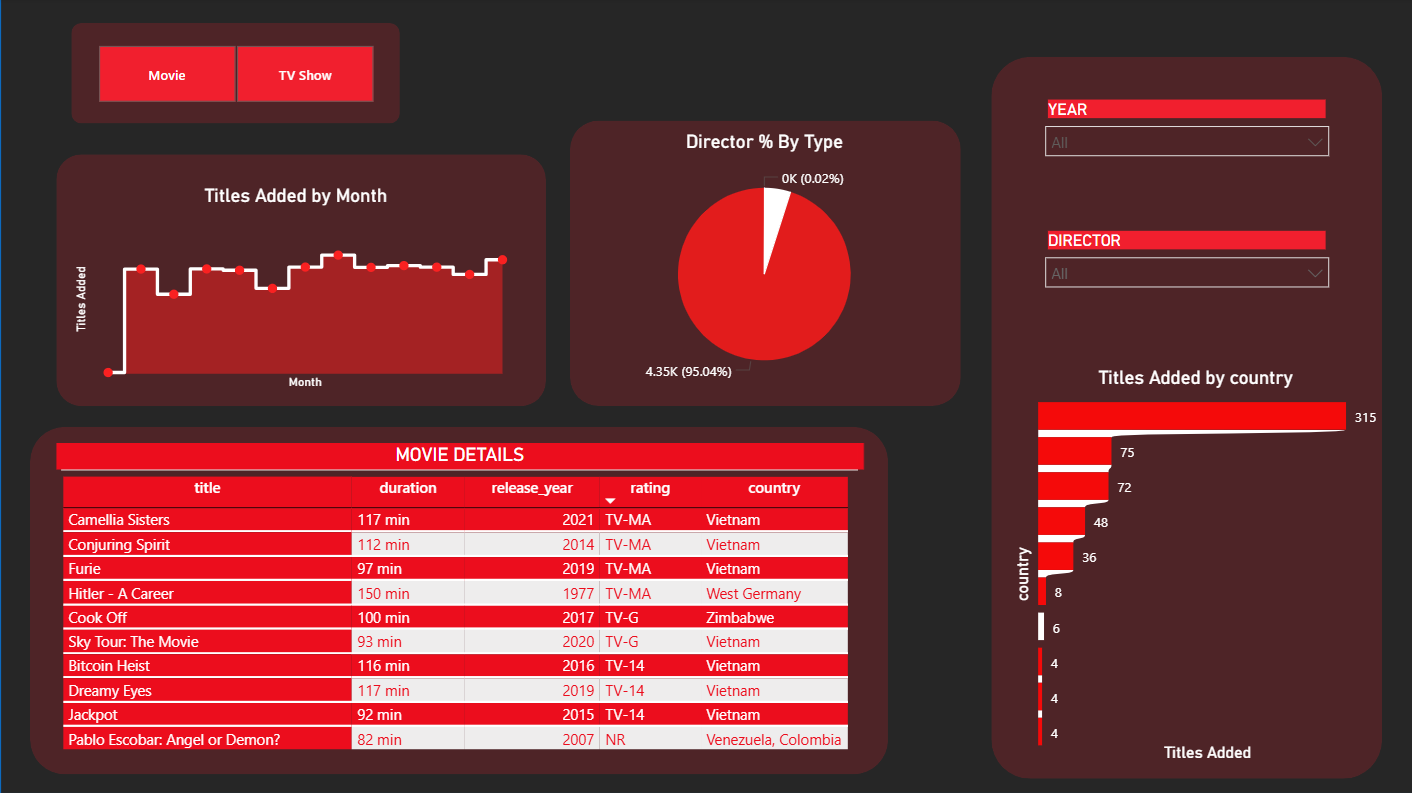

The page's visual inventory and layout, read from the dashboard file:
{"tool":"powerbi","page":{"name":"Page 2","canvas":[1280,720],"ordinal":1},"visuals":[{"type":"shape","box":[0,0,1280.2,720.1],"z":0},{"type":"shape","box":[27.4,388.1,776.2,314.5],"z":7000},{"type":"tableEx","title":"MOVIE DETAILS ","fields":{"Values":["netflix_titles.title","netflix_titles.duration","netflix_titles.release_year","netflix_titles.rating","netflix_titles.country"]},"box":[50.5,402.5,730,284.2],"z":8001},{"type":"shape","box":[64.9,23.1,297.2,90.9],"z":8002},{"type":"shape","box":[896.5,52.7,353.6,653.2],"z":8003},{"type":"slicer","fields":{"Values":["netflix_titles.director"]},"box":[934.9,206.3,277,67.8],"z":8004},{"type":"slicer","fields":{"Values":["netflix_titles.date_added.Variation.Date Hierarchy.Year"]},"box":[934.9,86.6,277,64.9],"z":8005},{"type":"barChart","title":"Titles Added by country","fields":{"Category":["netflix_titles.country"],"Series":["netflix_titles.type"],"Y":["netflix_titles.Titles Added"]},"box":[912.1,333.2,338,361.9],"z":8006},{"type":"slicer","title":"TYPE","fields":{"Values":["netflix_titles.type"]},"box":[63.5,36.1,298.7,64.9],"z":8007},{"type":"shape","box":[50.5,141.4,442.9,228],"z":8008},{"type":"stackedAreaChart","fields":{"Category":["netflix_titles.date_added.Variation.Date Hierarchy.Month"],"Y":["netflix_titles.Titles Added"]},"box":[63.5,168.8,408.3,190.4],"z":8009},{"type":"shape","box":[515.1,111.1,353.5,258.3],"z":8011},{"type":"pieChart","title":"Director %  By Type","fields":{"Category":["netflix_titles.type"],"Y":["netflix_titles.Unknown Director %","Count(netflix_titles.director)"]},"box":[530.9,119.7,320.3,240.9],"z":8012}]}

Visuals, with their boxes in screenshot pixels (x1, y1, x2, y2), scaled from the page's 1280x720 canvas onto the 1412x793 screenshot:
shape: 0:0:1411:792
shape: 30:427:886:774
"MOVIE DETAILS " tableEx: 56:443:861:756
shape: 72:25:399:126
shape: 989:58:1379:777
slicer - netflix_titles.director: 1031:227:1337:302
slicer - netflix_titles.date_added.Variation.Date Hierarchy.Year: 1031:95:1337:167
"Titles Added by country" barChart: 1006:367:1379:766
"TYPE" slicer: 70:40:400:111
shape: 56:156:544:407
stackedAreaChart - netflix_titles.date_added.Variation.Date Hierarchy.Month x netflix_titles.Titles Added: 70:186:520:396
shape: 568:122:958:407
"Director %  By Type" pieChart: 586:132:939:397
